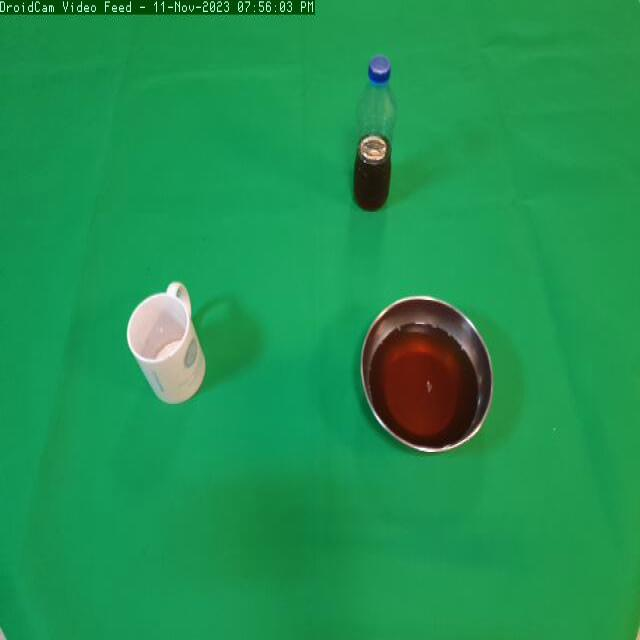cup: (121, 276, 208, 420)
fullbottle: (346, 50, 404, 224)
fullbowl: (352, 287, 509, 466)
